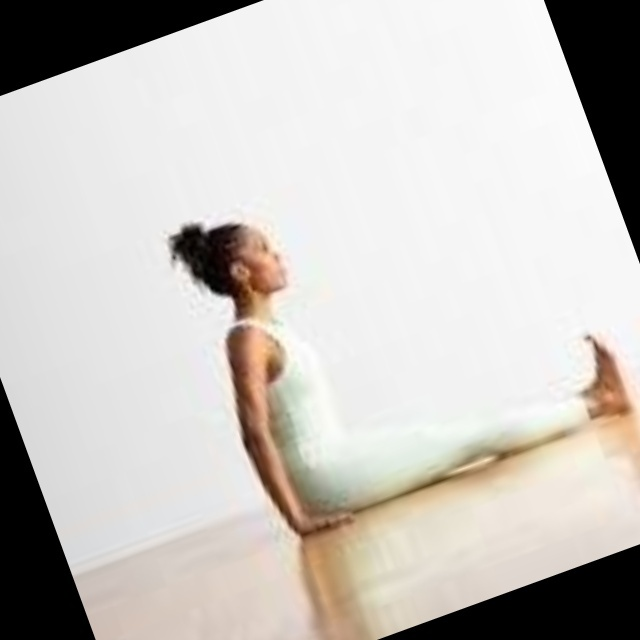Staff_Pose: (199, 222, 634, 539)
